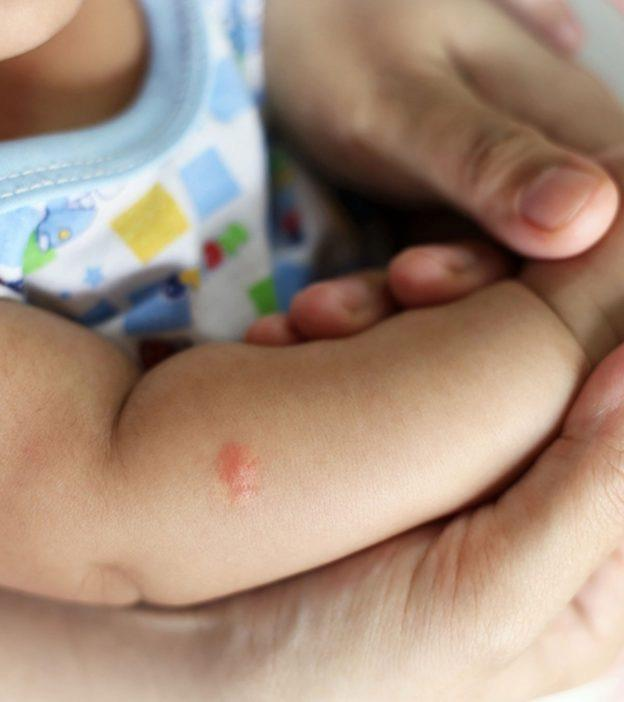Fleas: (209, 429, 256, 509)
